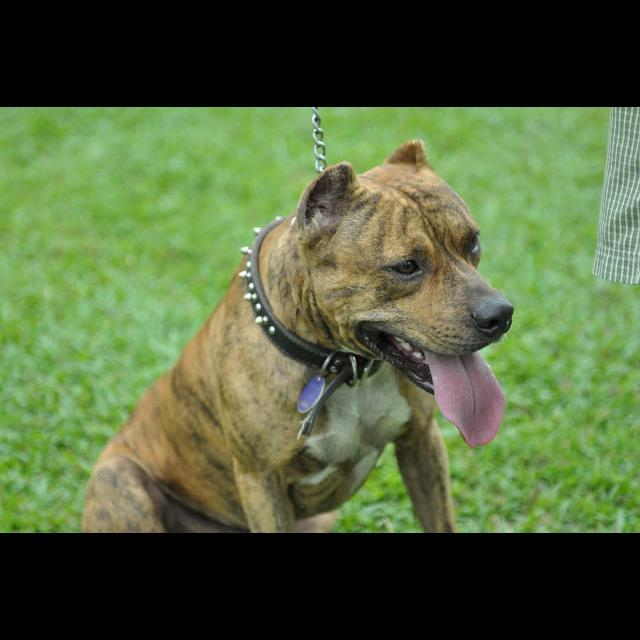am_pit_bull_terrier: (80, 139, 515, 533)
